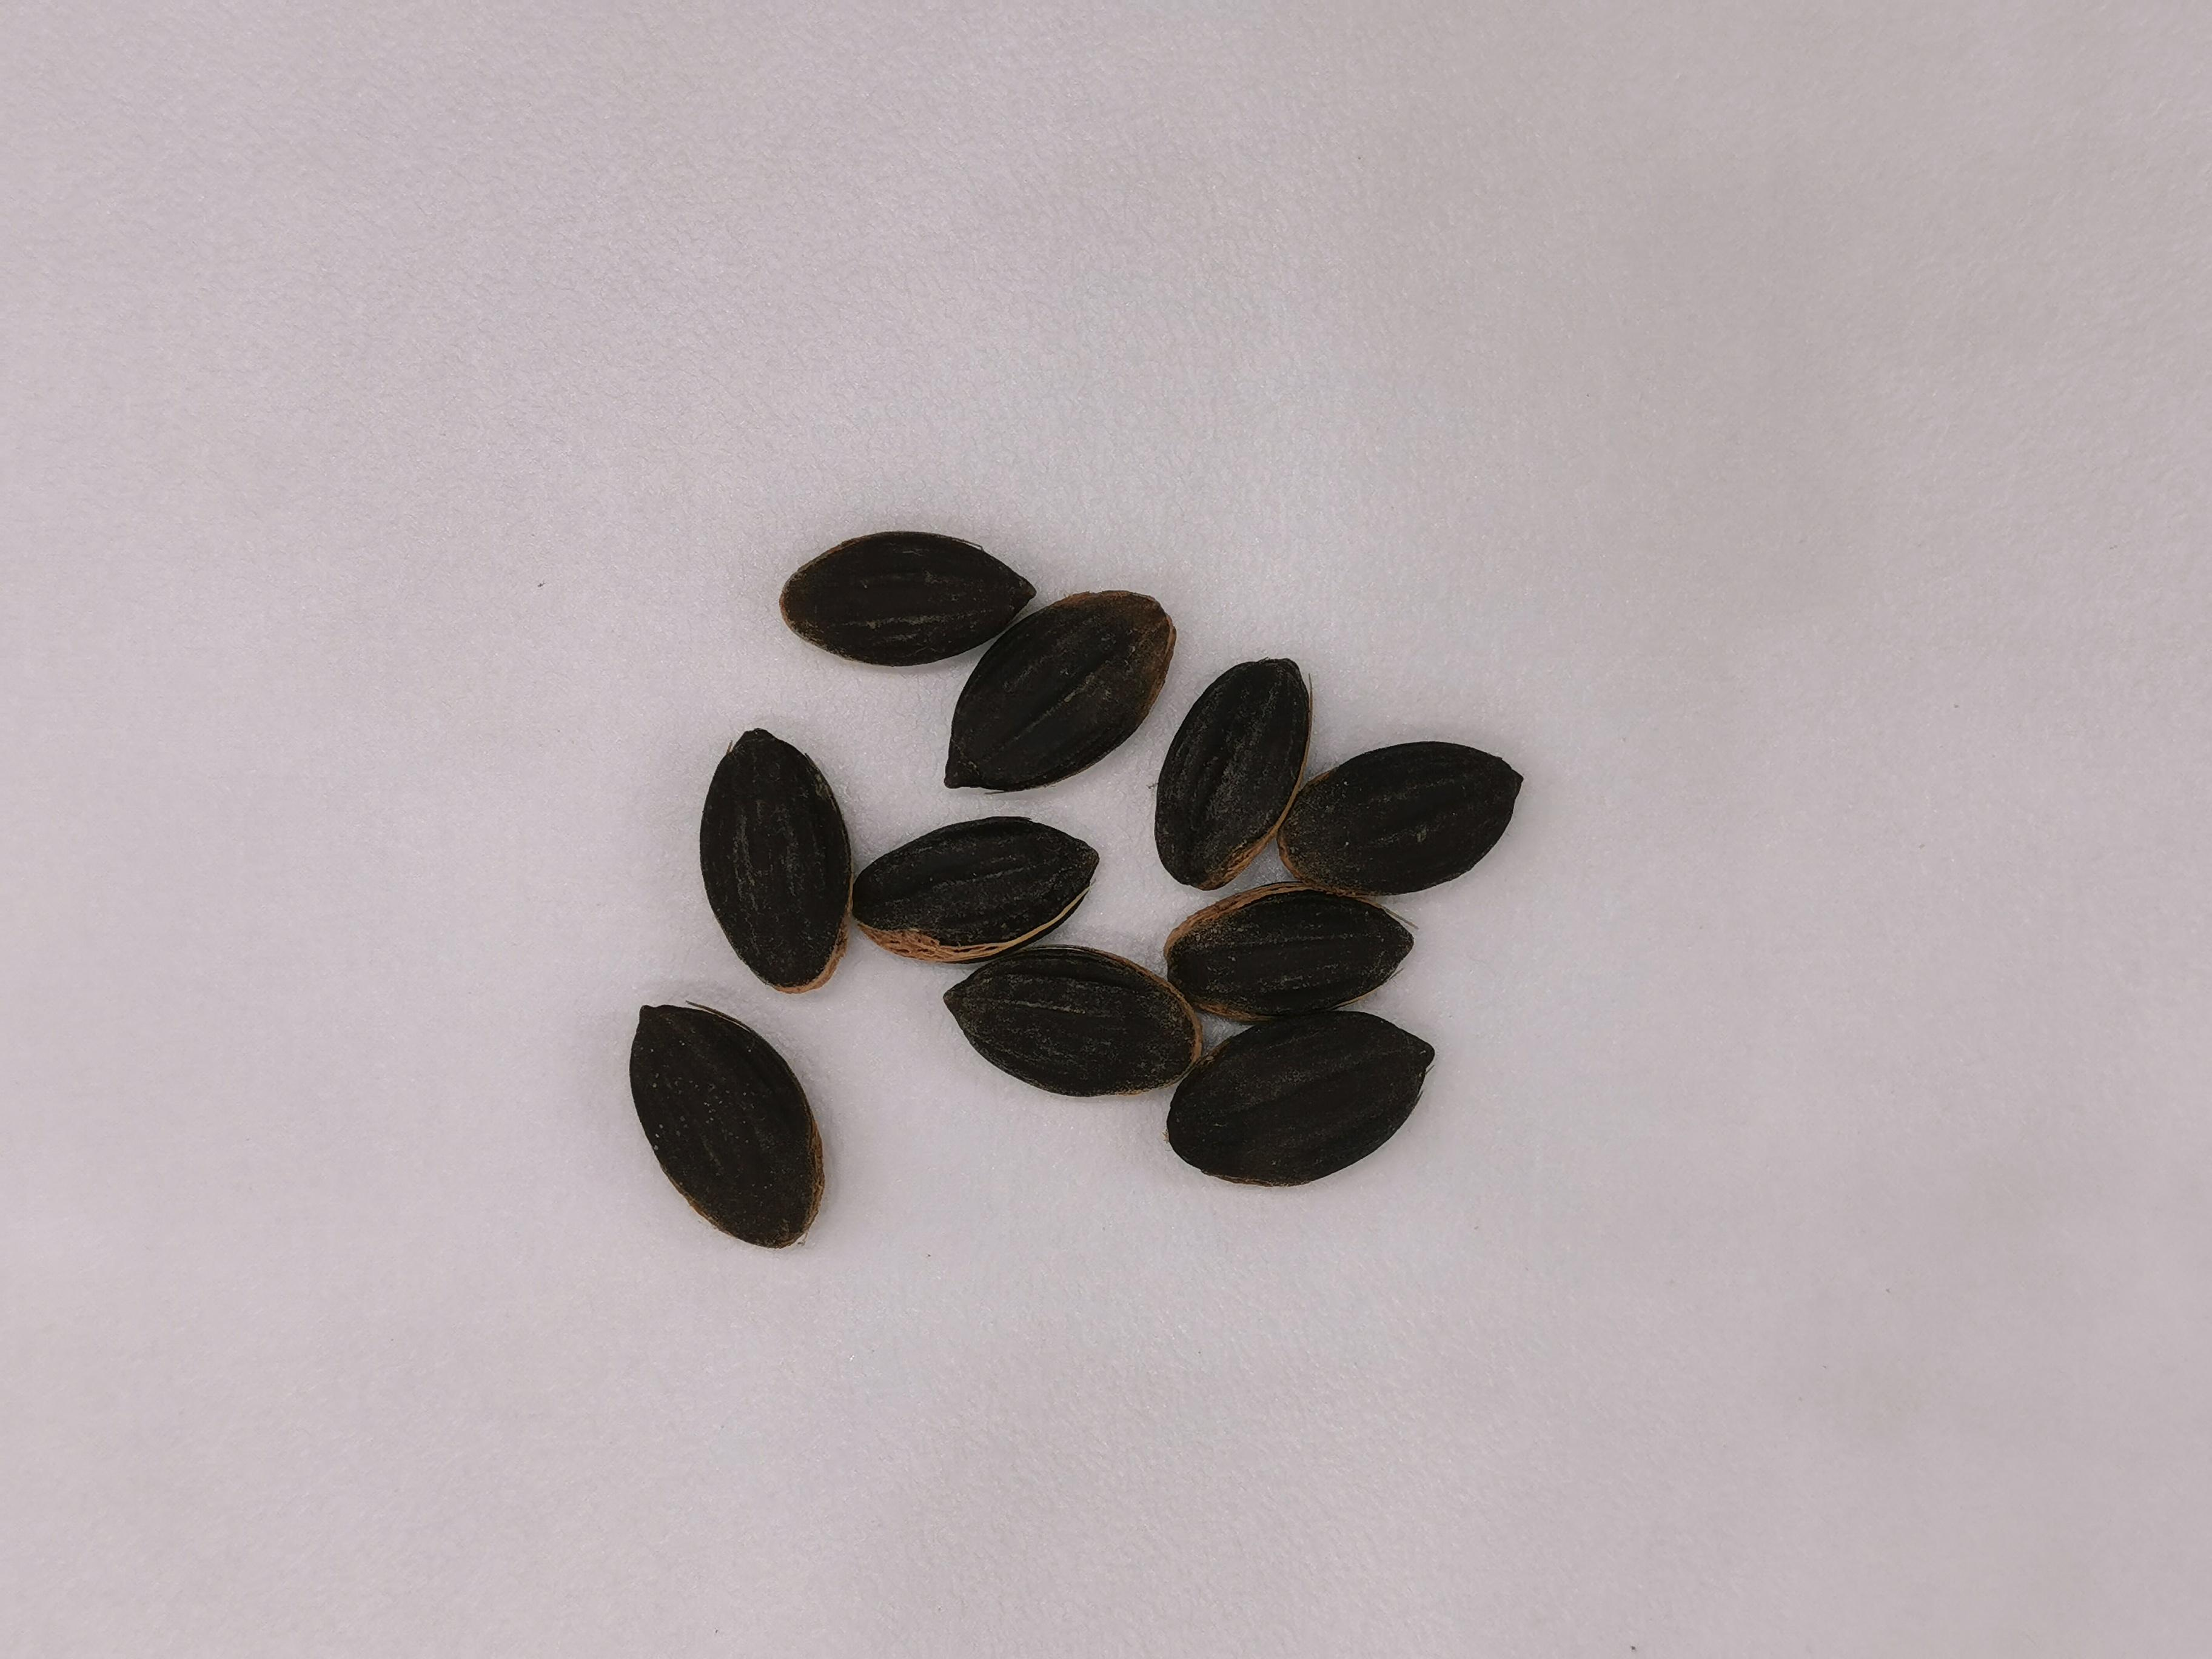seed: (1165, 1009, 1432, 1188), (625, 1002, 822, 1244), (944, 589, 1170, 788), (1277, 734, 1529, 903), (698, 730, 855, 986), (942, 946, 1198, 1101), (1157, 655, 1317, 885), (777, 526, 1029, 669), (853, 810, 1096, 958), (1162, 882, 1416, 1016)
